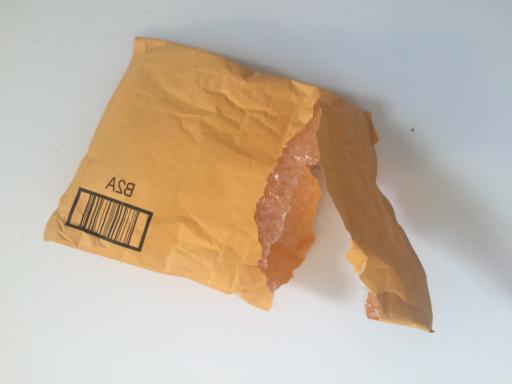trash: (41, 35, 435, 321)
